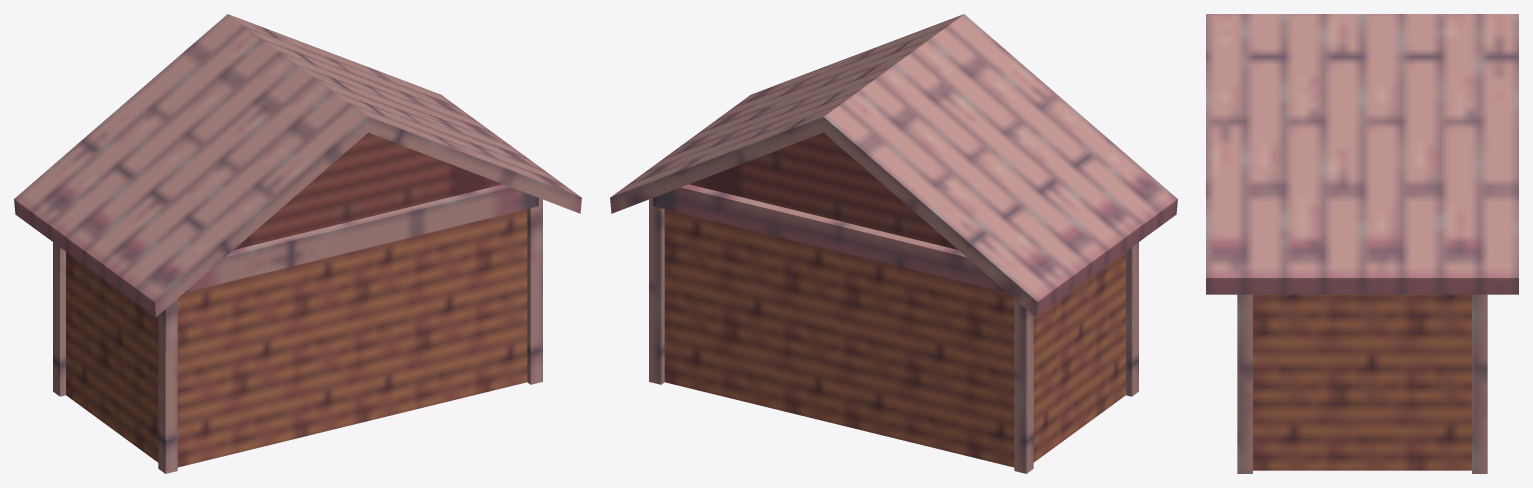
Rendered from House.fbx.
3 renders of one model, left to right at view 1: azimuth 30°, elevation 25°; view 2: azimuth 150°, elevation 25°; view 3: azimuth 270°, elevation 25°, orthographic. The views are drawn at different scales.
Parts seen in each view (by area): view 1: roof, Body, horizonal_support, Support_Post, Support_Post1, Support_Post3; view 2: roof, Body, horizonal_support1, Support_Post3, Support_Post2, Support_Post; view 3: roof, Body, Support_Post1, Support_Post2.
Part boxes in pixels (x1,y1,x2,y2): roof: [14, 14, 581, 316]; Body: [66, 209, 527, 467]; horizonal_support: [185, 184, 538, 292]; Support_Post: [158, 299, 177, 473]; Support_Post1: [527, 198, 542, 384]; Support_Post3: [53, 242, 65, 396]; roof: [610, 14, 1177, 316]; Body: [664, 209, 1125, 467]; horizonal_support1: [653, 184, 1006, 292]; Support_Post3: [1014, 299, 1033, 473]; Support_Post2: [649, 198, 664, 384]; Support_Post: [1126, 242, 1138, 396]; roof: [1206, 14, 1518, 294]; Body: [1253, 294, 1471, 470]; Support_Post1: [1237, 294, 1252, 473]; Support_Post2: [1472, 294, 1487, 473].
Size of the model in its own units: 7.02 by 5.04 by 4.
1 material, 1 textured.
